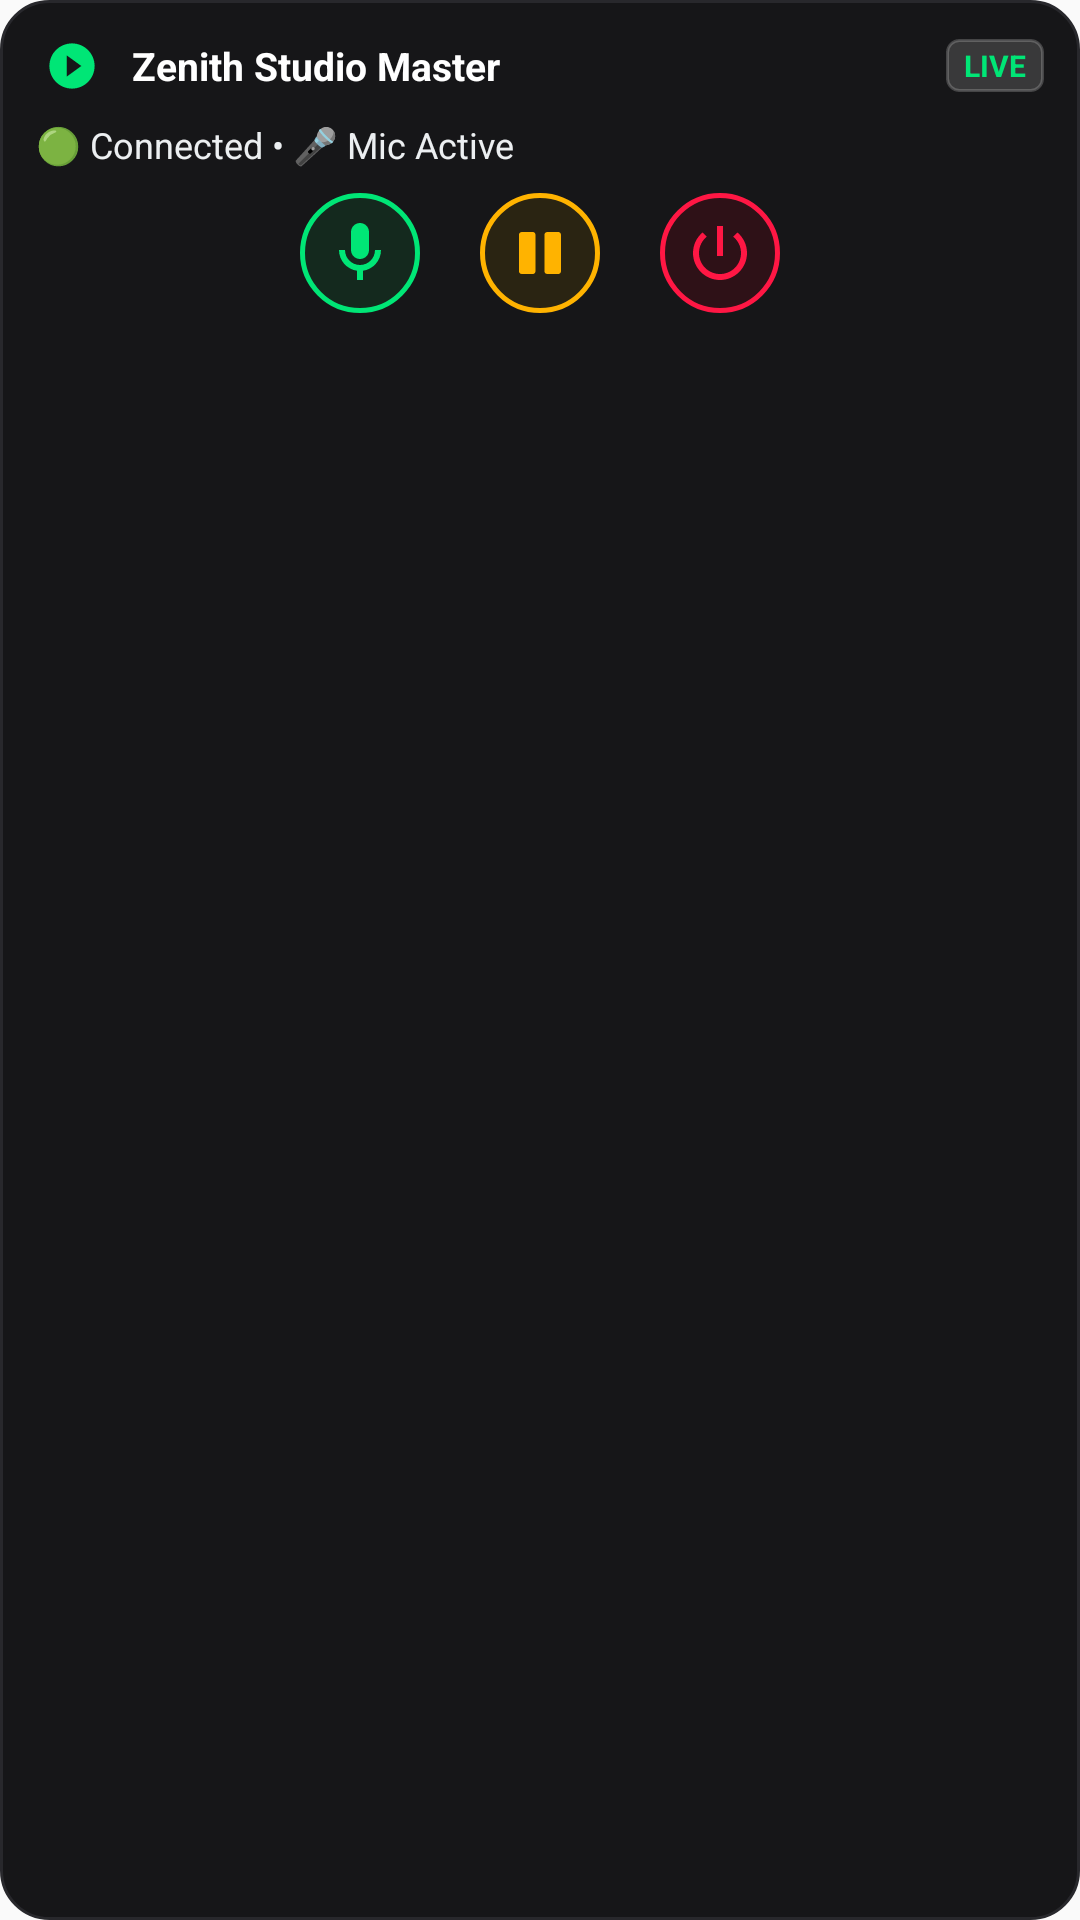

Icons on this 1080px x 1920px Android screen, each with the point to tap as (x,y):
Force Close: (720,253)
Toggle Mic: (360,253)
